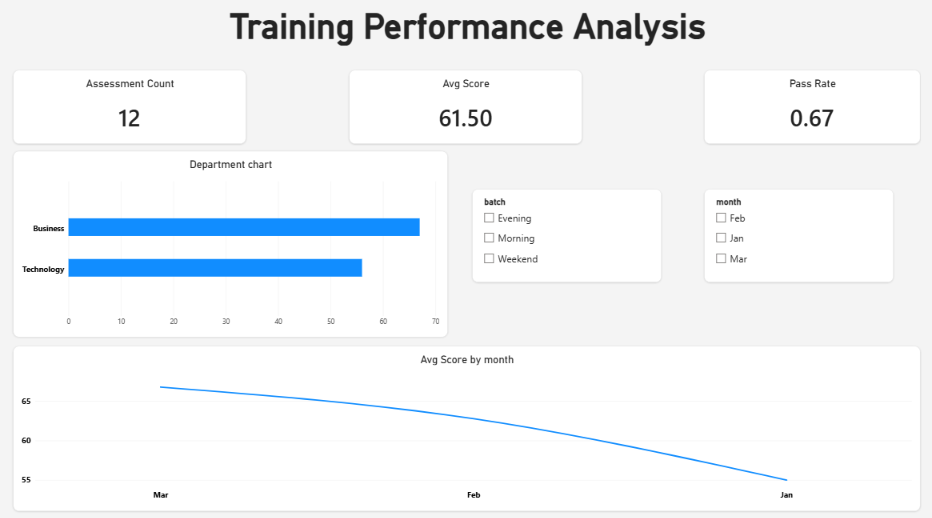

The page's visual inventory and layout, read from the dashboard file:
{"tool":"powerbi","page":{"name":"Main","canvas":[1920,1080],"ordinal":0},"visuals":[{"type":"card","title":"Avg Score","fields":{"Values":["assessments.Avg Score"]},"box":[720.4,144.1,479.6,152.3],"z":0},{"type":"card","title":"Assessment Count","fields":{"Values":["assessments.Assessment Count"]},"box":[28.8,144.1,479.6,152.3],"z":1000},{"type":"card","title":"Pass Rate","fields":{"Values":["assessments.Pass Rate"]},"box":[1451.1,144.1,444.6,152.3],"z":2000},{"type":"clusteredBarChart","title":"Department chart","fields":{"Category":["courses.department"],"Y":["assessments.Avg Score"]},"box":[28.8,311.1,894.3,383.3],"z":3000},{"type":"lineChart","fields":{"Category":["assessments.month"],"Y":["assessments.Avg Score"]},"box":[28.8,712.9,1866.8,340],"z":4000},{"type":"slicer","fields":{"Values":["assessments.batch"]},"box":[972.6,389.4,389.4,191.6],"z":5000},{"type":"slicer","fields":{"Values":["assessments.month"]},"box":[1450.6,389.4,389.4,191.6],"z":6000},{"type":"textbox","title":"Training Performance Analysis","box":[32.9,12.3,1862.8,119.4],"z":6001}]}

Visuals, with their boxes in screenshot pixels (x1, y1, x2, y2), scaled from the page's 1920x1080 canvas onto the 932x518 screenshot:
"Avg Score" card: box(350, 69, 582, 142)
"Assessment Count" card: box(14, 69, 247, 142)
"Pass Rate" card: box(704, 69, 920, 142)
"Department chart" clusteredBarChart: box(14, 149, 448, 333)
lineChart - assessments.month x assessments.Avg Score: box(14, 342, 920, 505)
slicer - assessments.batch: box(472, 187, 661, 279)
slicer - assessments.month: box(704, 187, 893, 279)
"Training Performance Analysis" textbox: box(16, 6, 920, 63)
